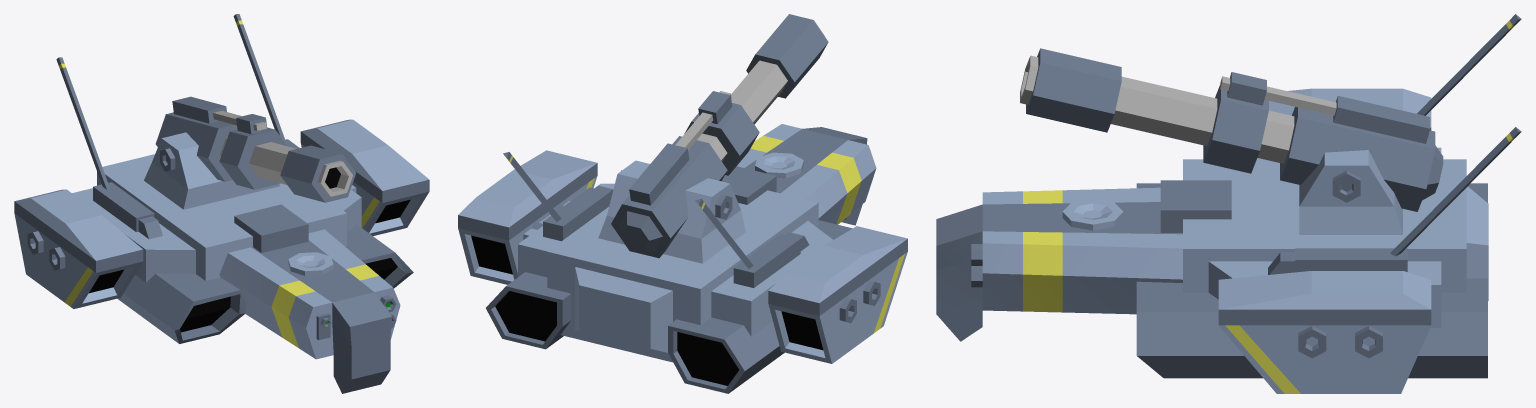
Rendered from ice_artilleryEnemy_01.fbx.
The picture shows the model from 3 angles, left to right: view 1: azimuth 30°, elevation 25°; view 2: azimuth 150°, elevation 25°; view 3: azimuth 270°, elevation 25°; orthographic projection. The views are drawn at different scales.
Visible parts, largest first — view 1: body, engine02, engine01, intake02, barrel_housing, barrel, gun_carriage, greeble03, intake01, greeble02, greeble012, greeble011 (+1 smaller); view 2: body, engine02, barrel_housing, engine01, intake02, barrel, gun_carriage, intake01, greeble02, greeble01, greeble03, greeble05 (+4 smaller); view 3: body, engine01, barrel_housing, intake01, barrel, gun_carriage, greeble03, greeble01, engine02, greeble05, greeble011, greeble012 (+3 smaller).
Boxes of the visible parts, x1,y1,x2,y2 form: body: [72, 154, 400, 393]; engine02: [14, 189, 143, 308]; engine01: [300, 119, 429, 235]; intake02: [117, 273, 245, 343]; barrel_housing: [155, 96, 287, 189]; barrel: [219, 137, 355, 202]; gun_carriage: [144, 132, 279, 209]; greeble03: [234, 204, 308, 252]; intake01: [346, 225, 413, 288]; greeble02: [93, 182, 162, 239]; greeble012: [56, 57, 109, 189]; greeble011: [233, 14, 286, 143]; body: [518, 124, 876, 362]; engine02: [768, 226, 907, 363]; barrel_housing: [611, 91, 759, 258]; engine01: [458, 150, 597, 284]; intake02: [668, 220, 852, 393]; barrel: [697, 14, 828, 161]; gun_carriage: [598, 160, 745, 263]; intake01: [486, 272, 571, 349]; greeble02: [733, 232, 809, 287]; greeble01: [543, 185, 613, 241]; greeble03: [722, 166, 776, 204]; greeble05: [755, 152, 803, 178]; body: [936, 147, 1488, 341]; engine01: [1218, 271, 1431, 393]; barrel_housing: [1203, 72, 1443, 211]; intake01: [1136, 278, 1487, 378]; barrel: [1020, 48, 1294, 163]; gun_carriage: [1299, 150, 1402, 234]; greeble03: [1160, 180, 1231, 232]; greeble01: [1268, 248, 1407, 274]; engine02: [1269, 88, 1431, 130]; greeble05: [1062, 199, 1123, 230]; greeble011: [1390, 127, 1521, 256]; greeble012: [1417, 14, 1521, 115].
Bounding box in the file's own units: 5.74 × 3.35 × 6.48.
